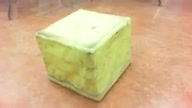cube: (34, 8, 132, 100)
